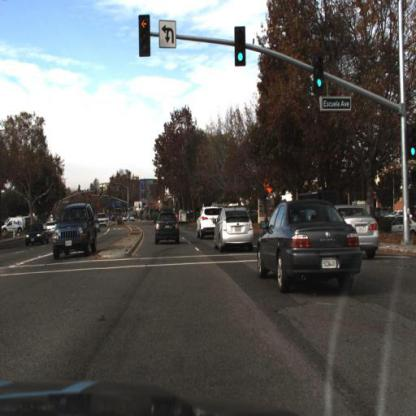car: (249, 189, 367, 306), (339, 195, 384, 263), (213, 198, 264, 257), (51, 202, 101, 262), (195, 200, 219, 249), (151, 209, 180, 246), (23, 219, 50, 250), (1, 215, 26, 240), (94, 208, 110, 231), (45, 221, 59, 237), (47, 219, 58, 237)
trafficLight-Green: (231, 44, 246, 75), (315, 68, 328, 99), (314, 63, 326, 94)
